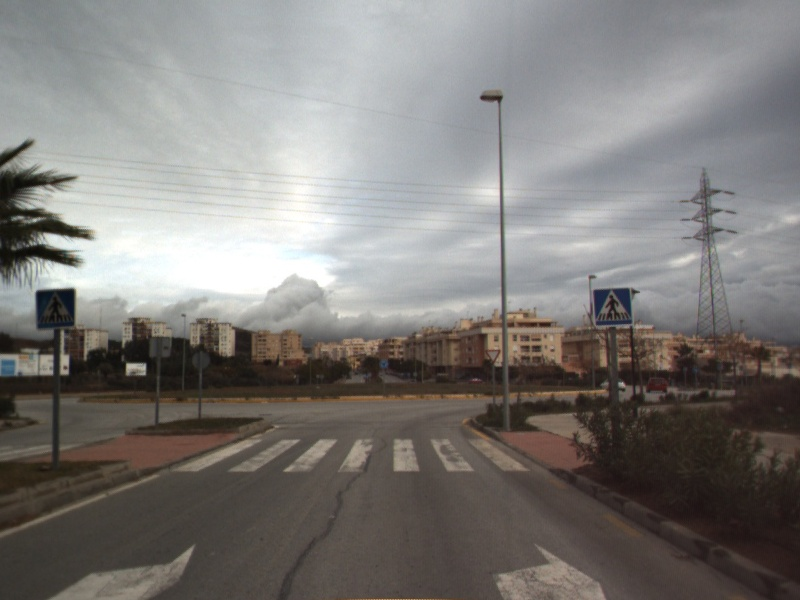RIGHT: (39, 539, 199, 600), (489, 539, 612, 600)
